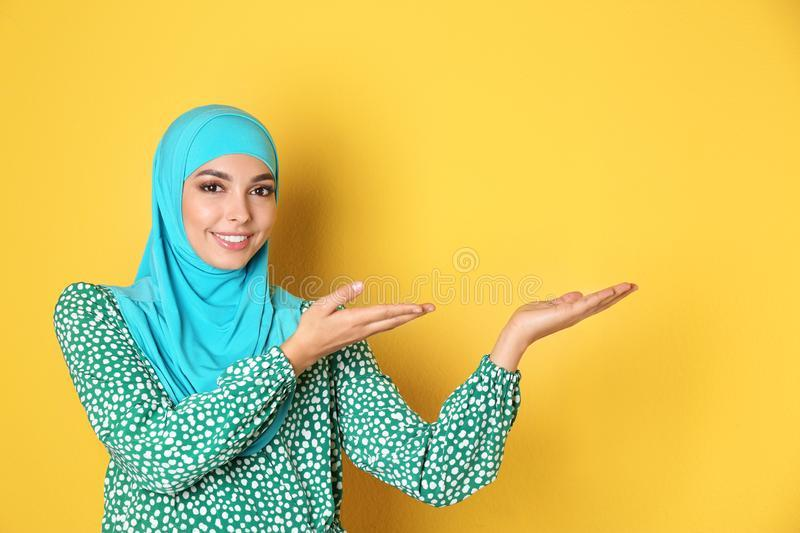No Mask: (168, 140, 307, 284)
